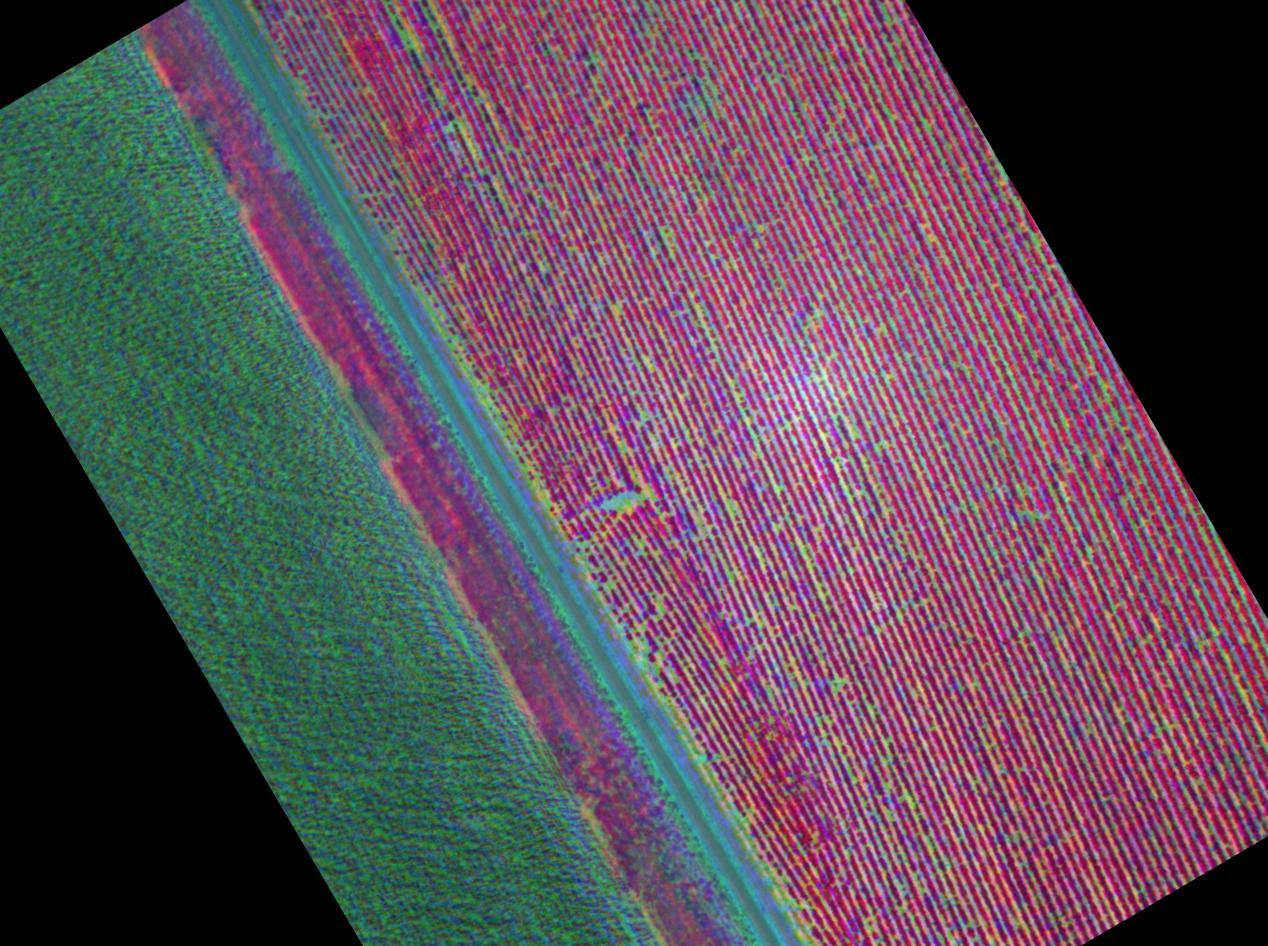dc: (899, 907, 903, 912), (756, 227, 760, 231), (662, 233, 666, 237), (541, 266, 545, 270), (462, 265, 465, 269), (949, 935, 952, 939)
